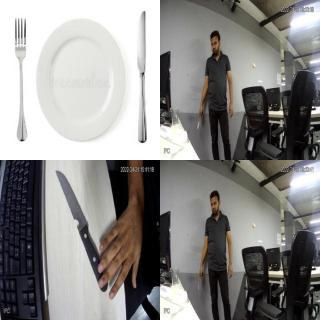knife: (53, 169, 105, 292), (134, 12, 147, 132), (196, 114, 202, 130), (197, 274, 203, 290)
